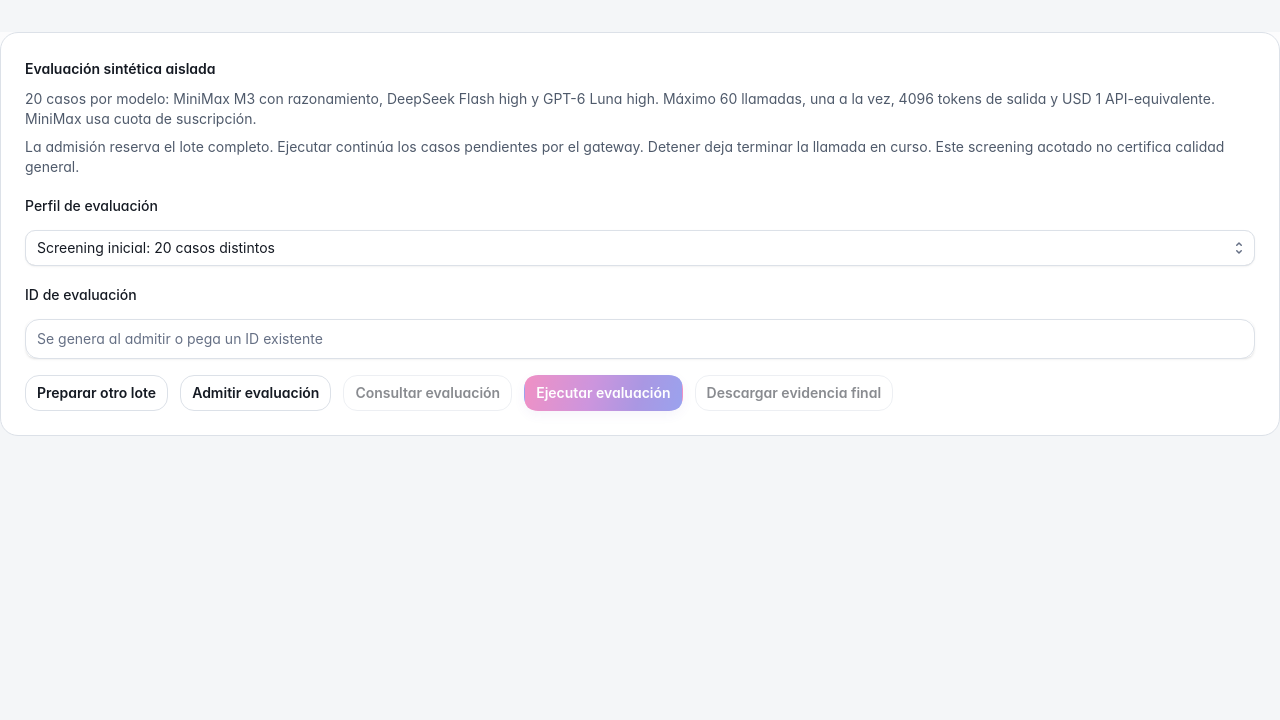
Test: isolated evaluation controls › rejects admission when the returned corpus differs from the selected profile
The width and height of the screenshot is (1280, 720).
Select "Caché: 10 pares con prefijo compartido y control" in the dropdown labelled "Perfil de evaluación": (640, 248) [25, 230, 1255, 266]
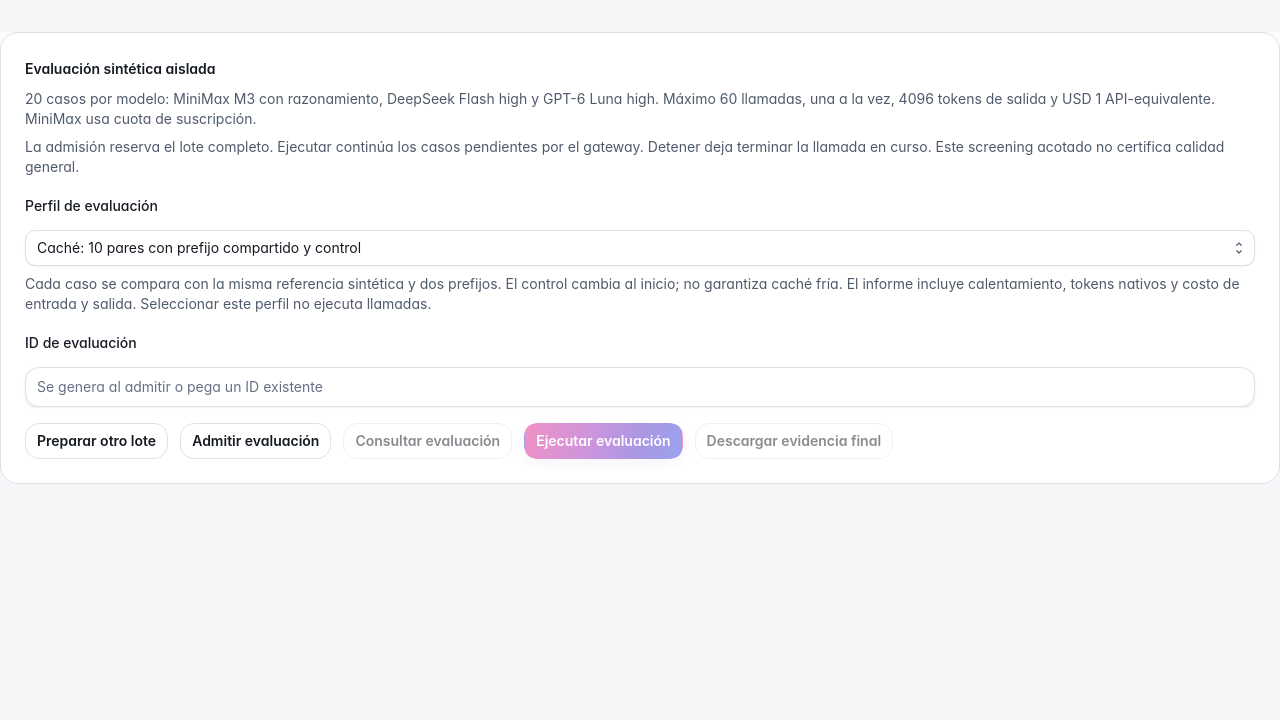
Click the button "Admitir evaluación": (256, 441) [180, 423, 332, 459]
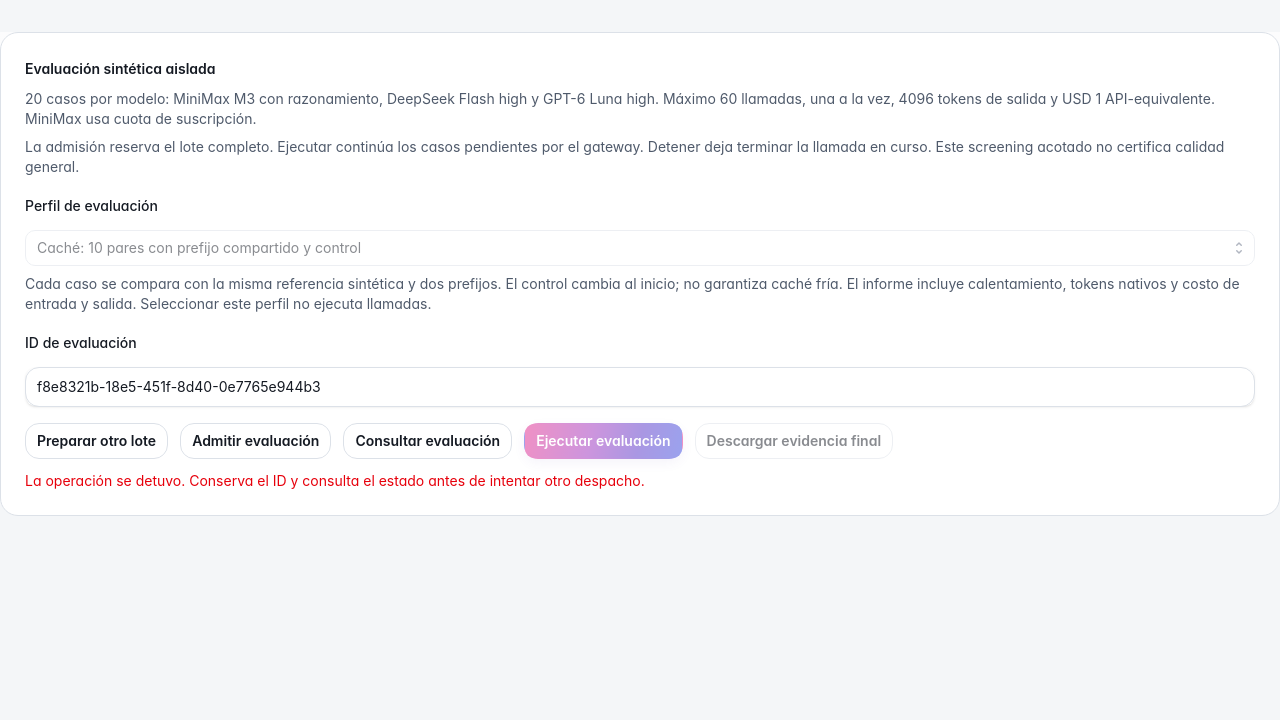
Now the message is shown, box [25, 472, 645, 489]
